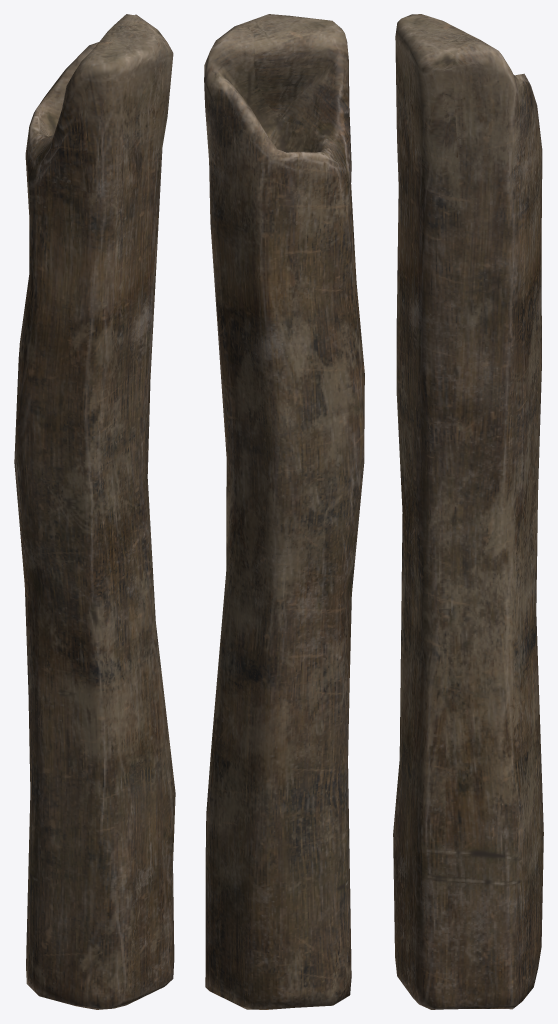
Rendered from SM_WoodenPole.fbx.
The picture shows the model from 3 angles, left to right: view 1: azimuth 30°, elevation 25°; view 2: azimuth 150°, elevation 25°; view 3: azimuth 270°, elevation 25°; orthographic projection.
Parts seen in each view (by area): view 1: SM_WoodenPole_LOD0; view 2: SM_WoodenPole_LOD0; view 3: SM_WoodenPole_LOD0.
Boxes of the visible parts, x1,y1,x2,y2 form: SM_WoodenPole_LOD0: (14, 14, 175, 1009); SM_WoodenPole_LOD0: (204, 14, 364, 1009); SM_WoodenPole_LOD0: (393, 14, 543, 1009).
Bounding box in the file's own units: 15.52 × 14.21 × 100.
Materials: 1 (1 with a texture image).
